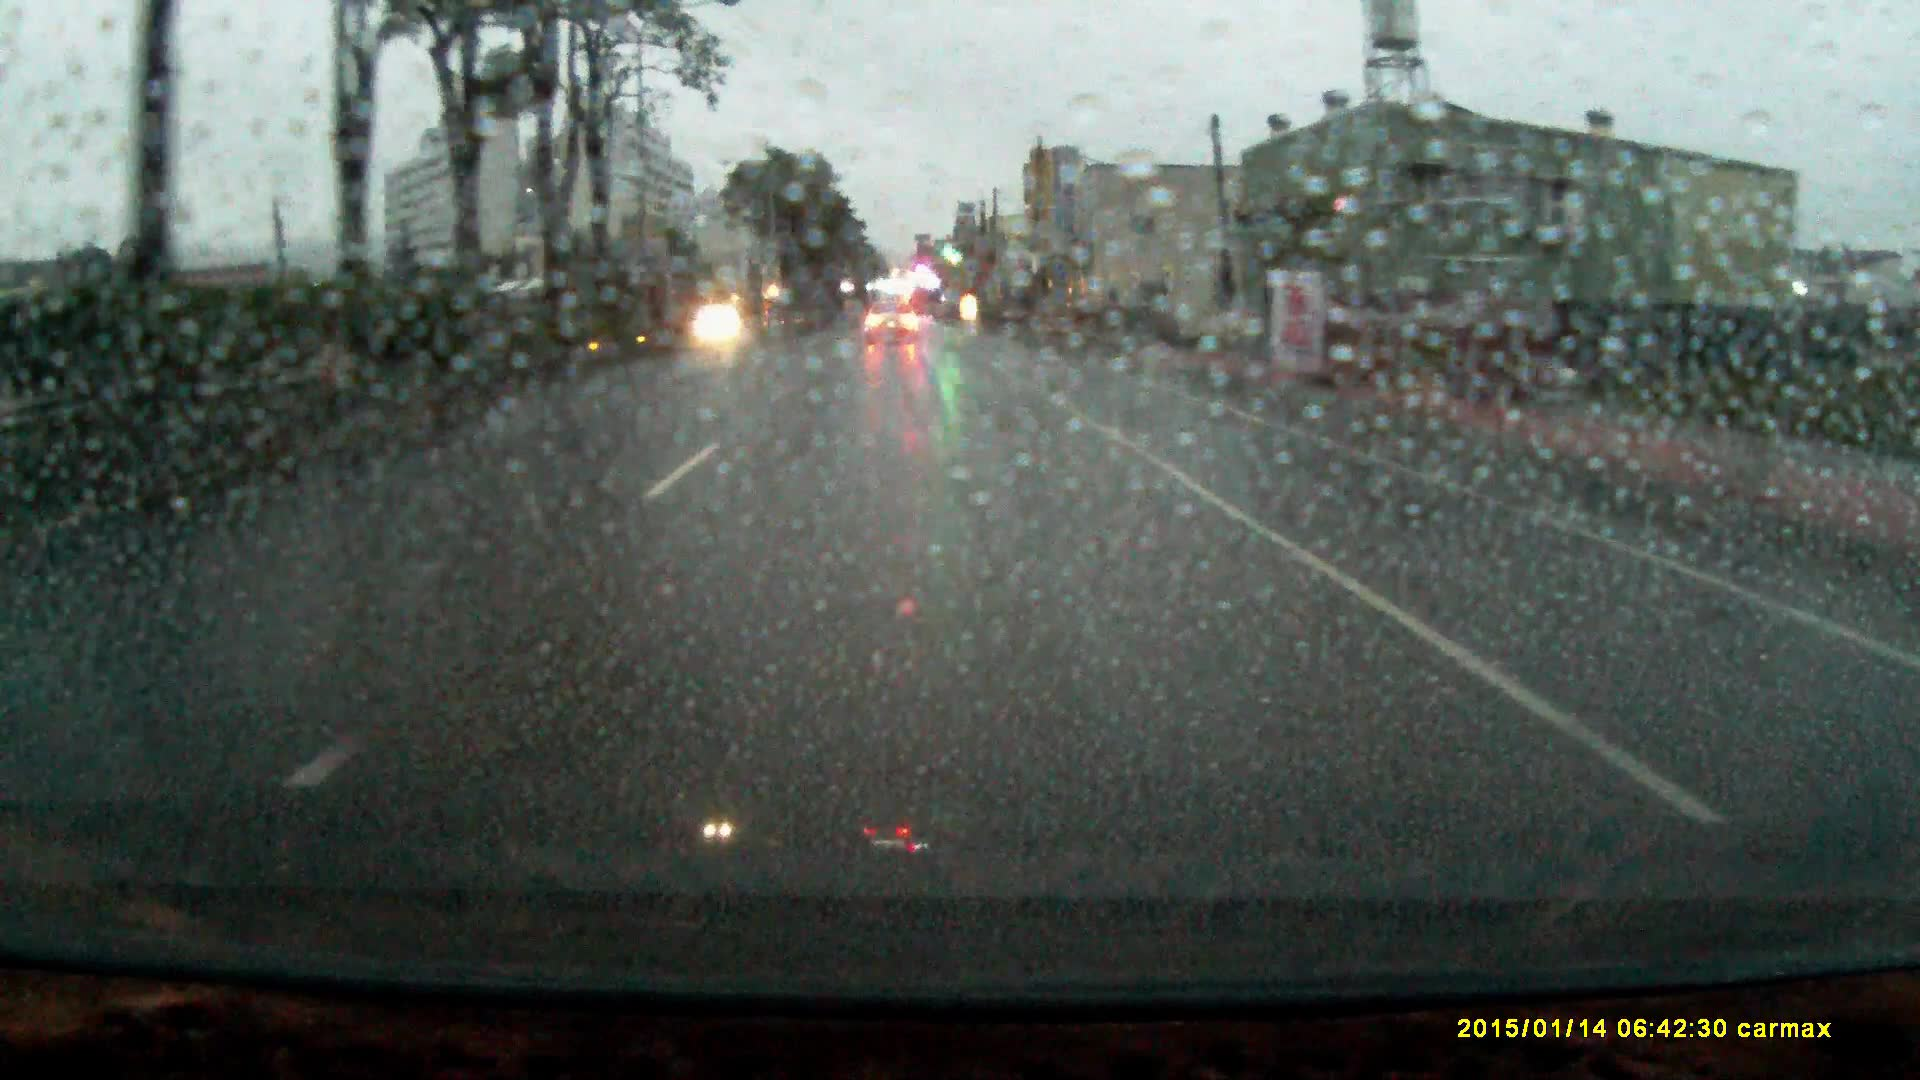vehicle: (865, 298, 919, 342)
